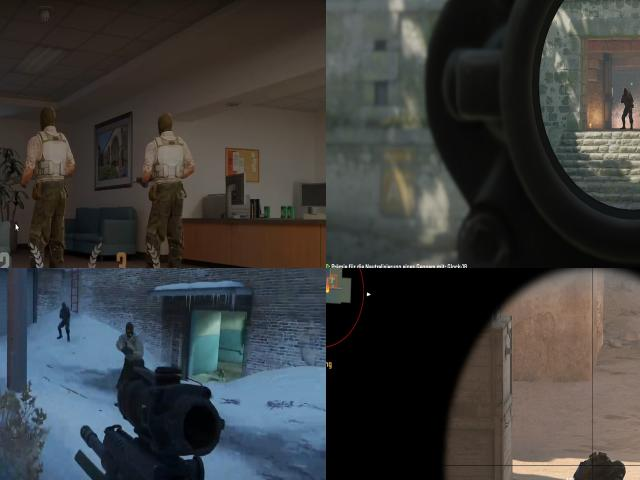CT: (618, 86, 635, 130), (56, 298, 73, 338)
CT-Head: (620, 87, 632, 99), (60, 300, 68, 314)
Dead: (566, 453, 640, 480)
T: (118, 318, 142, 362)
T-Head: (120, 318, 139, 345)
